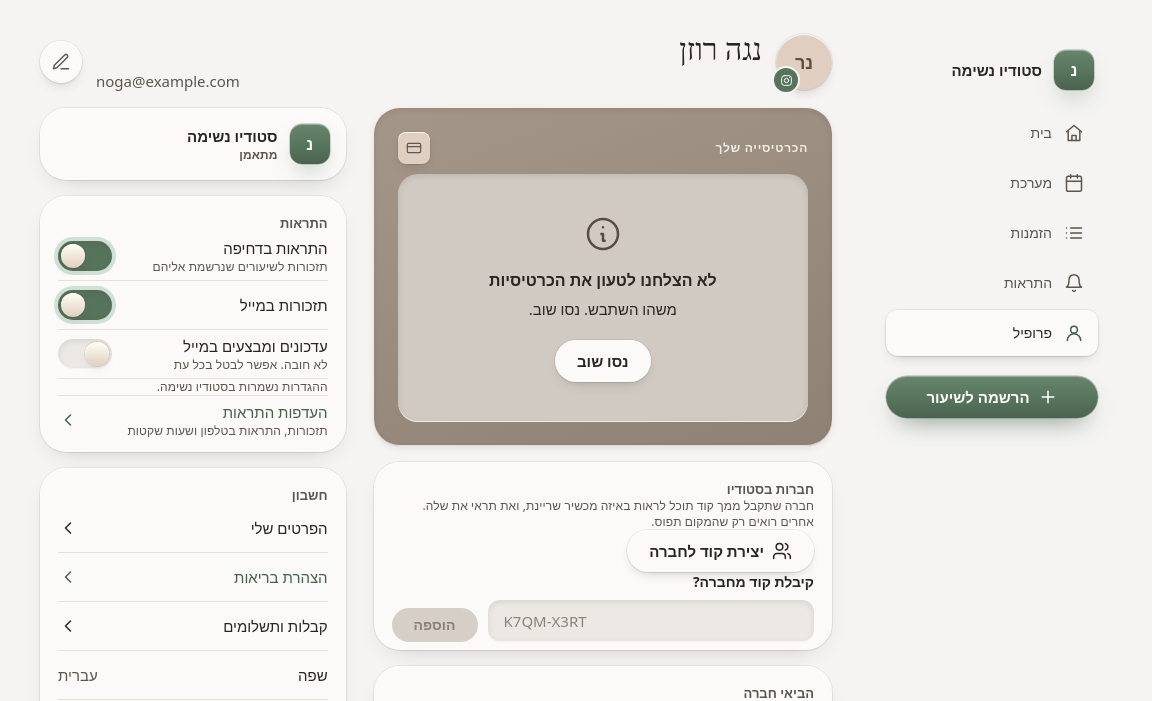
Scenario: notification consent › puts the switch back and says so when the choice is not saved
Click the switch named "תזכורות במייל".
click(85, 305)  # box [58,283,112,327]
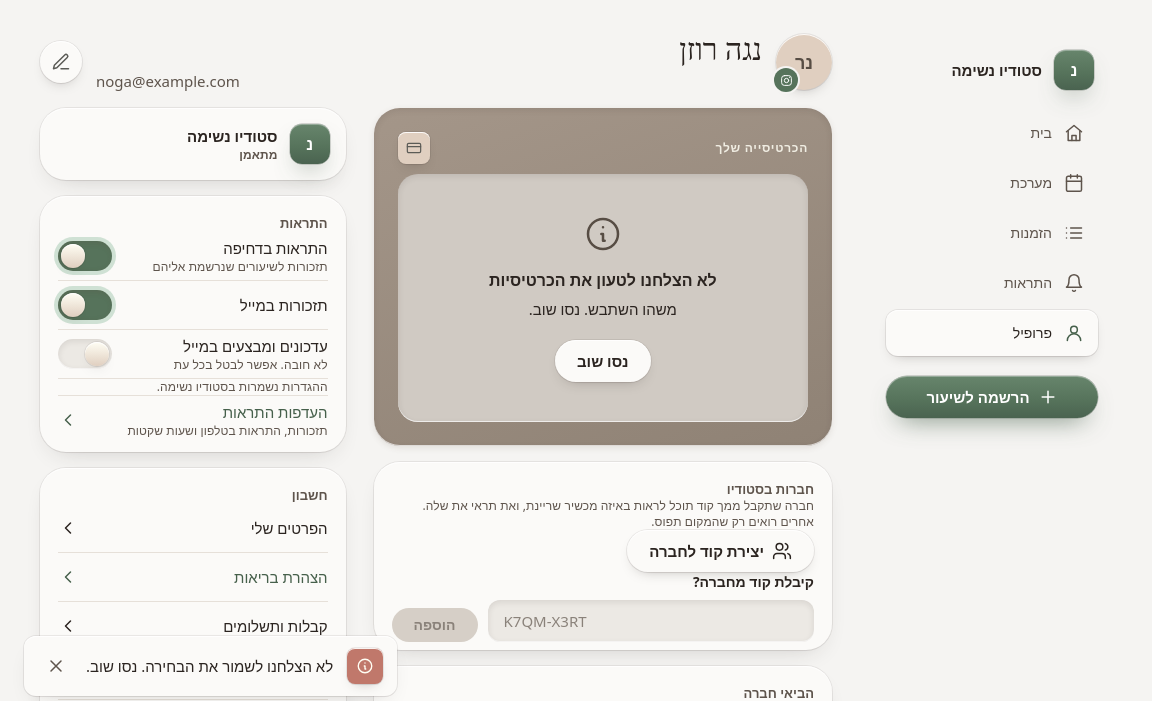
Expected: the text "לא הצלחנו לשמור את הבחירה. נסו שוב." is shown, [86,655,333,677]
